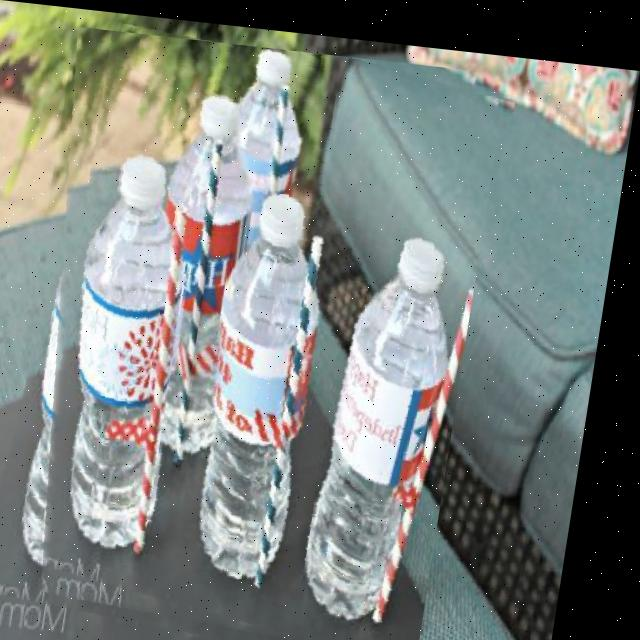plasticbottle: (3, 25, 508, 640), (259, 187, 474, 637)
plasticbottlecap: (347, 212, 457, 300)
